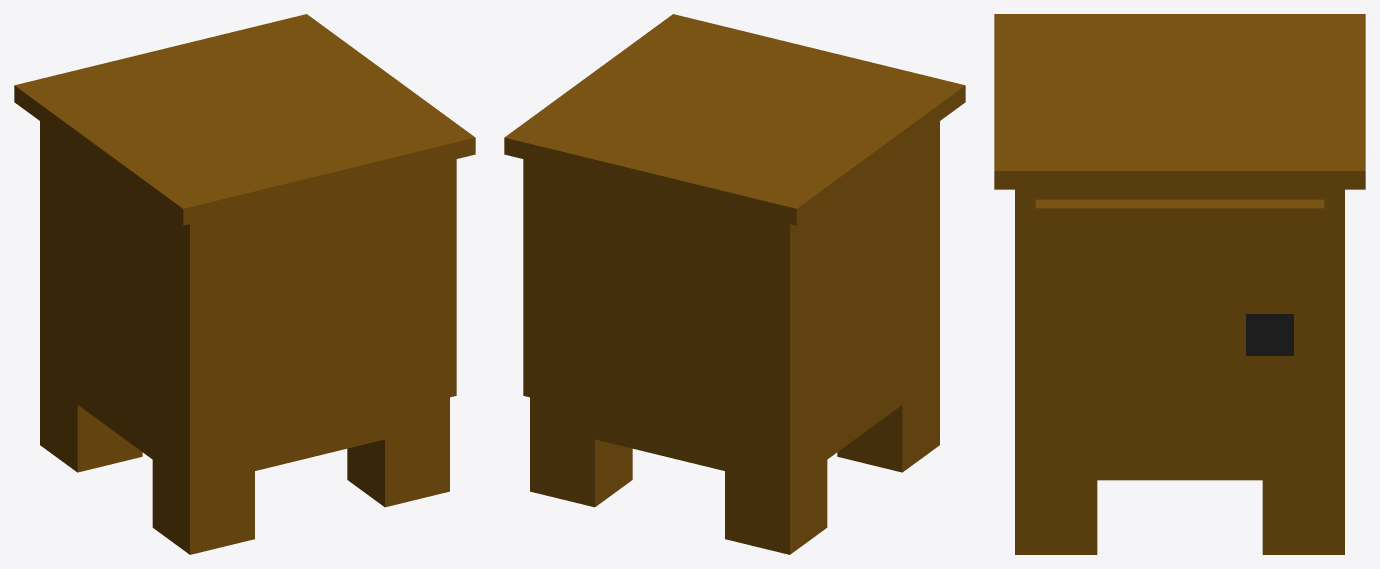
The model's file is buro.glb.
3 views of the same model, side by side, from view 1: azimuth 30°, elevation 25°; view 2: azimuth 150°, elevation 25°; view 3: azimuth 270°, elevation 25° (orthographic). The views are drawn at different scales.
Visible parts, largest first — view 1: cuboid (×4); view 2: cuboid (×4); view 3: cuboid (×3).
Part boxes in pixels (left/top/right/bottom): cuboid (×4): left=14, top=14, right=475, bottom=554; cuboid (×4): left=504, top=14, right=965, bottom=554; cuboid (×3): left=994, top=14, right=1365, bottom=554.
Bounding box in the file's own units: 0.2812 × 0.3281 × 0.2812.
1 material, 1 textured.
